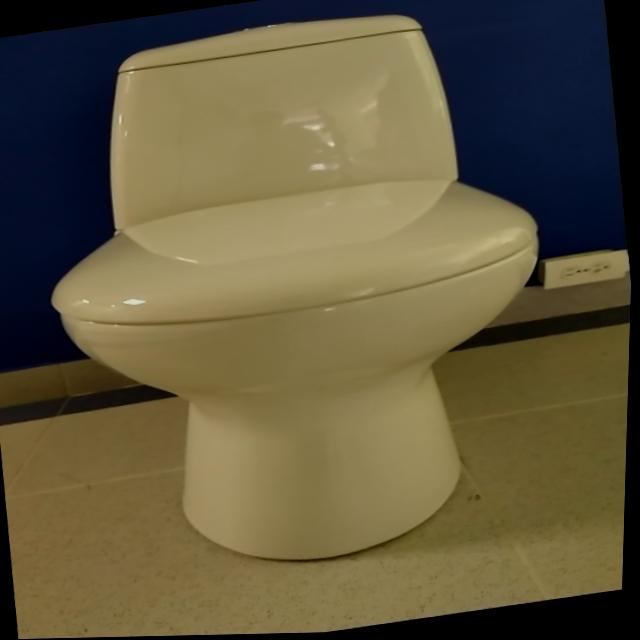toilet: (15, 0, 581, 595)
